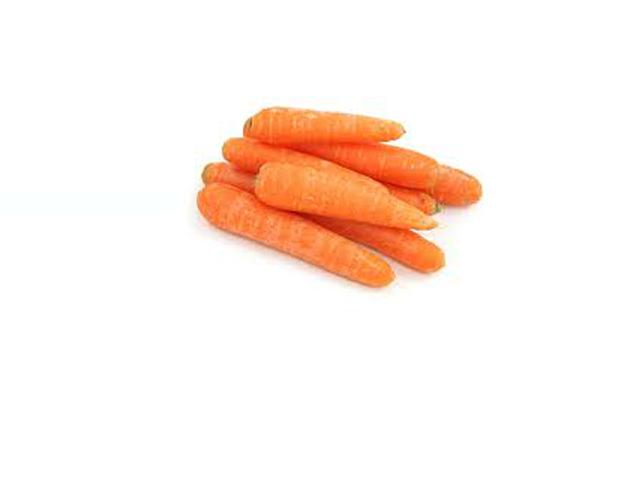carrot: (182, 176, 388, 292)
